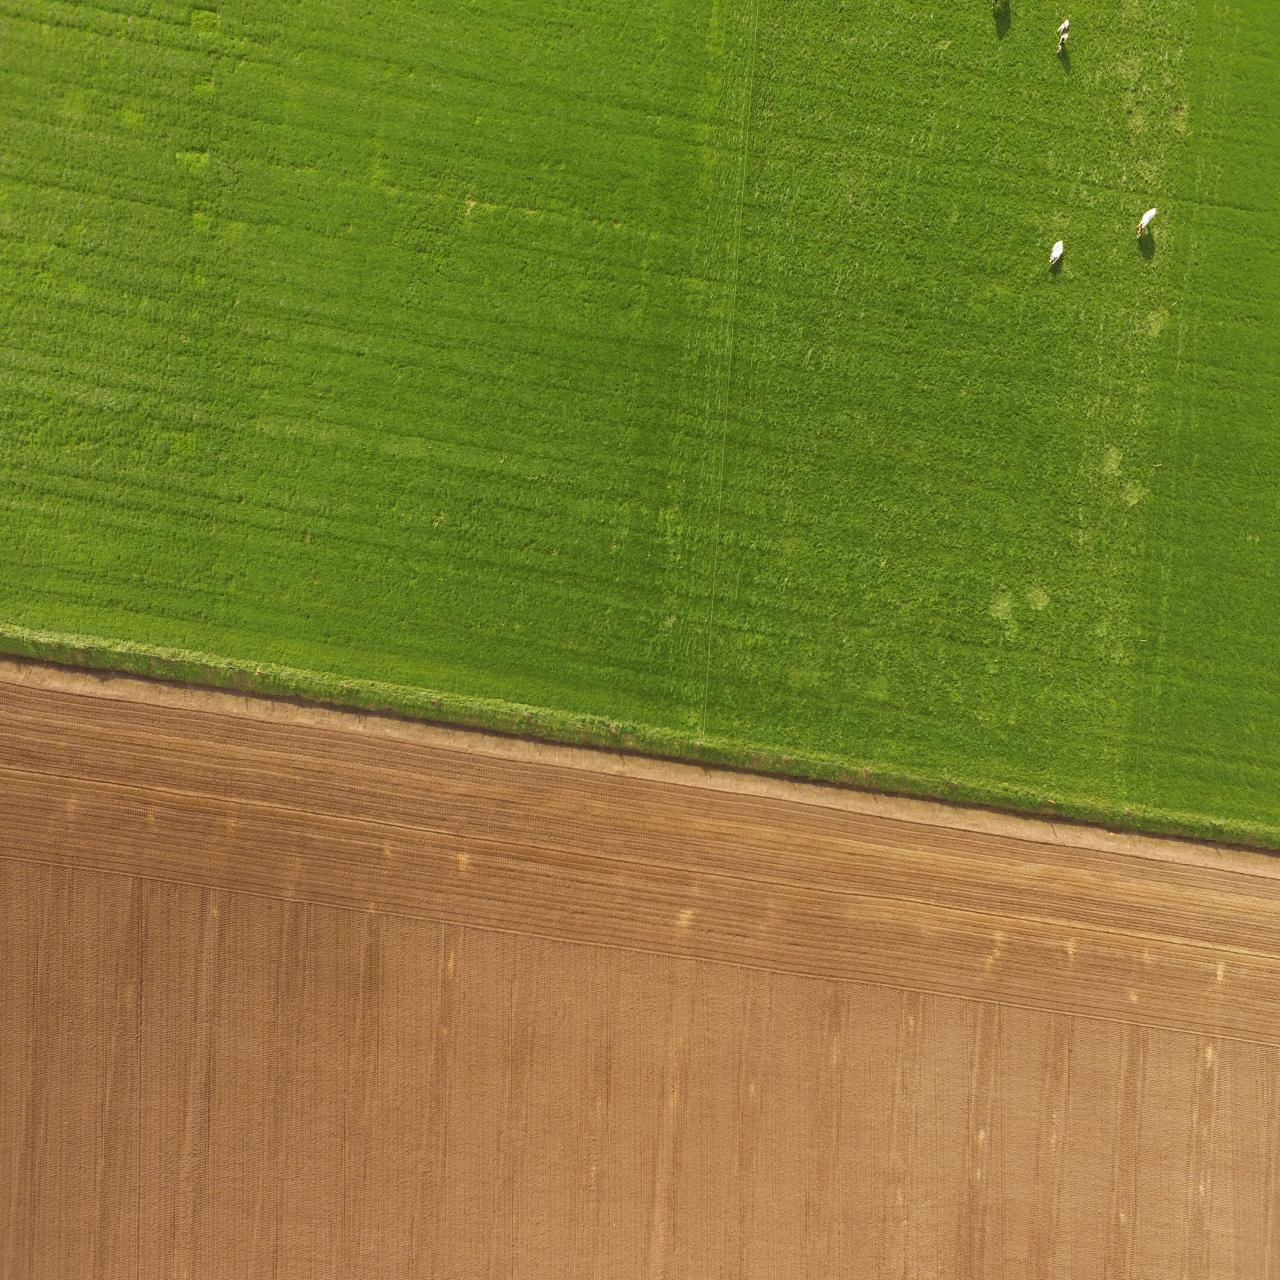cow: (1132, 205, 1158, 240), (1054, 12, 1071, 52), (1047, 238, 1065, 270)
